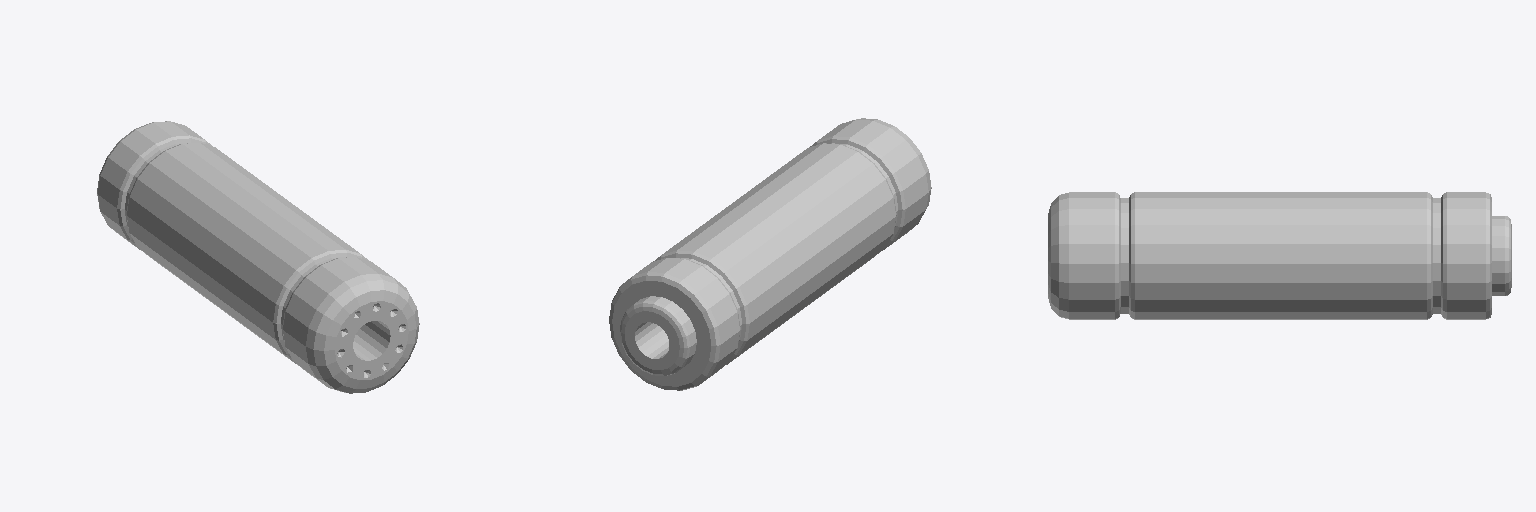
Rendered from Glock_RedDotSight.obj.
3 views of the same model, side by side, from view 1: azimuth 30°, elevation 25°; view 2: azimuth 150°, elevation 25°; view 3: azimuth 270°, elevation 25° (orthographic).
Parts seen in each view (by area): view 1: Glock_Silencer; view 2: Glock_Silencer; view 3: Glock_Silencer.
Part boxes in pixels (bbox=[...]): Glock_Silencer: bbox=[97, 121, 419, 393]; Glock_Silencer: bbox=[609, 118, 931, 390]; Glock_Silencer: bbox=[1048, 192, 1511, 319].
Bounding box in the file's own units: 3.66 × 3.66 × 13.2.